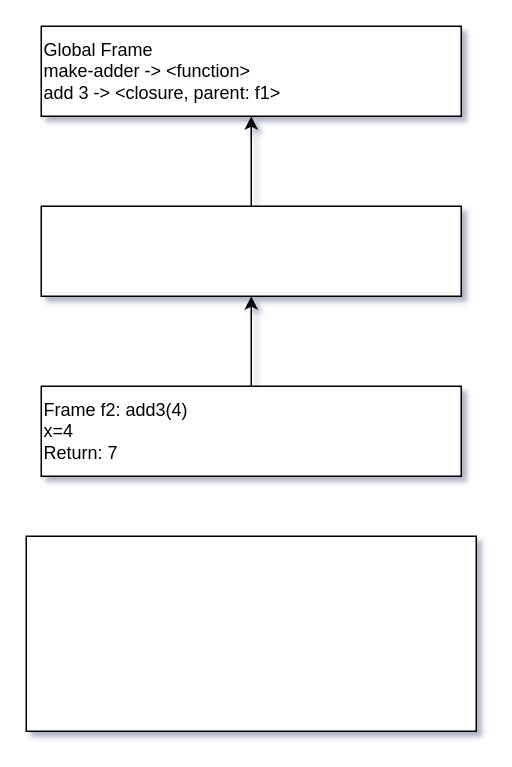
The diagram is 512 pixels wide and 767 high, and some of its shapes have lost their labels. The centre of each missing label's shape, as x and y in pixels:
"def make_adder(n): return lambda x: x + n add3 = make_adder(3)" belongs at point (250, 633).
"Frame f1: make_adder(3) n=3" belongs at point (250, 250).
